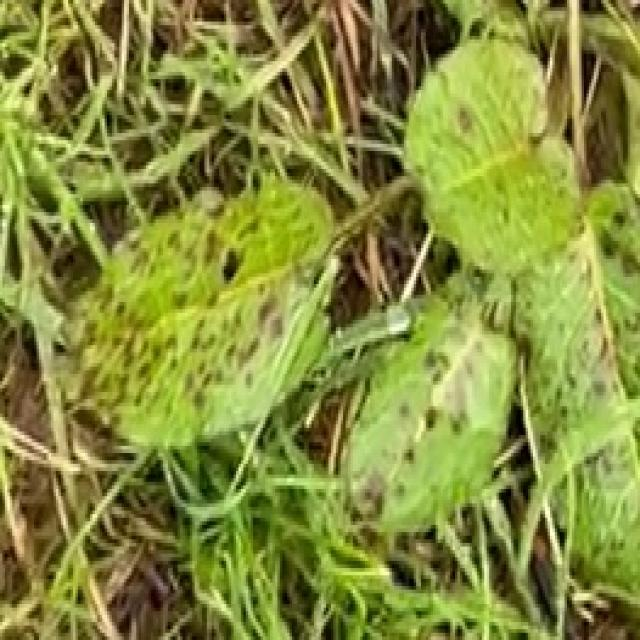organic waste: (90, 61, 640, 547)
